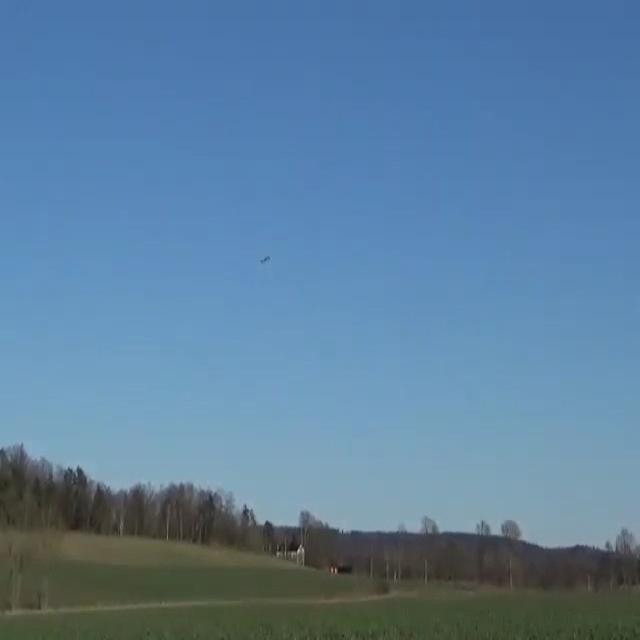drone: (260, 255, 272, 264)
